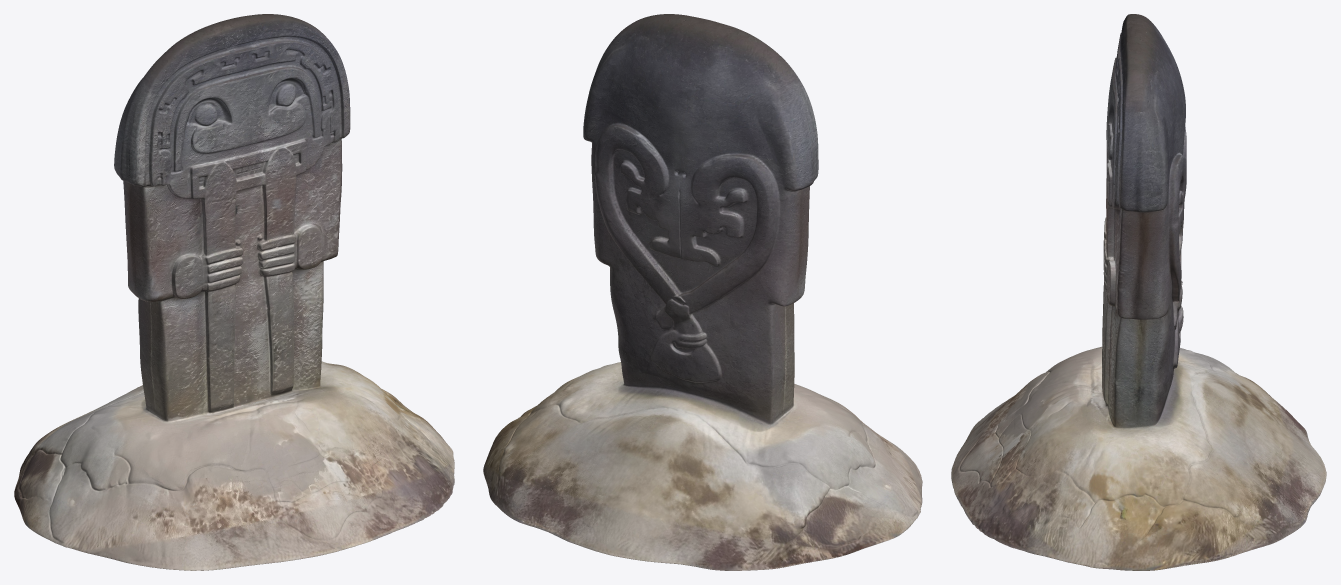
The model's file is estatua.glb.
3 views of the same model, side by side, from view 1: azimuth 30°, elevation 25°; view 2: azimuth 150°, elevation 25°; view 3: azimuth 270°, elevation 25° (orthographic). The views are drawn at different scales.
Size of the model in its own units: 1.73 by 1.9 by 1.45.
1 material, 1 textured.
